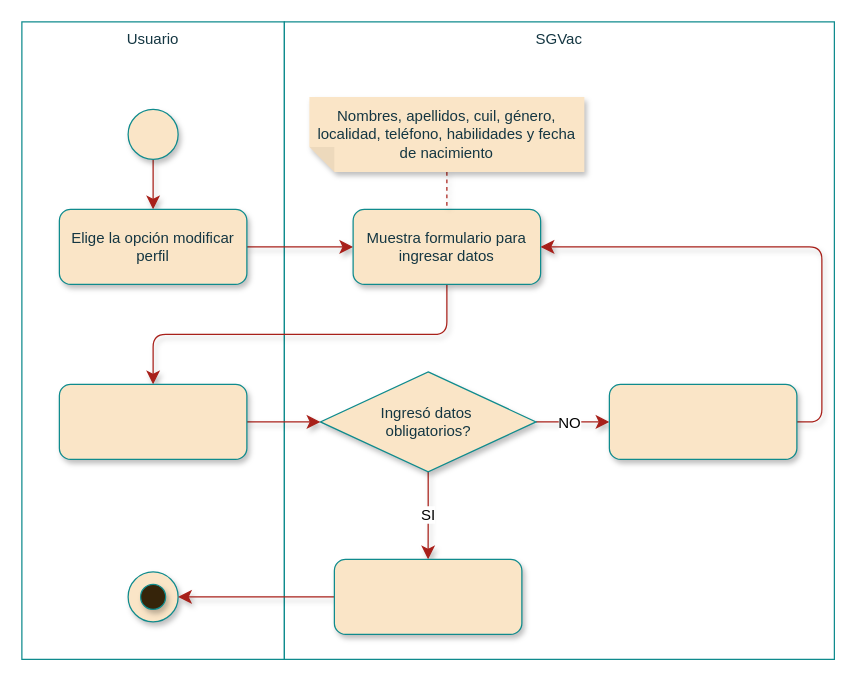
Some shapes in this 864 by 681 pixel diagram are drawn without their labels. Here are the shapes that lost their labels. From the top down, the centre of each, then its label:
At (153,423): "Ingresa datos".
At (703,423): "Muestra faltan datos obligatorios".
At (428,598): "Modifica postulante".
